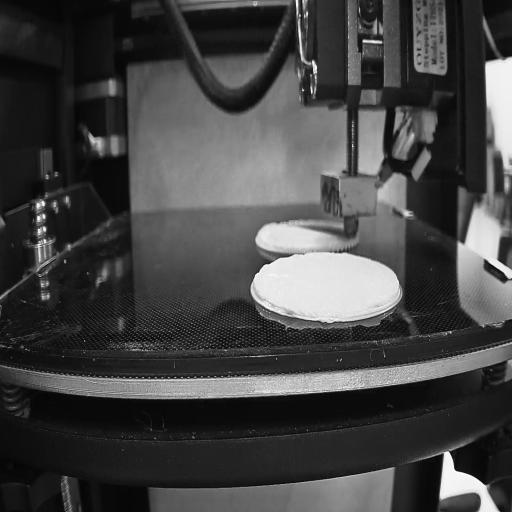over_extrusion: (250, 267, 261, 307)
